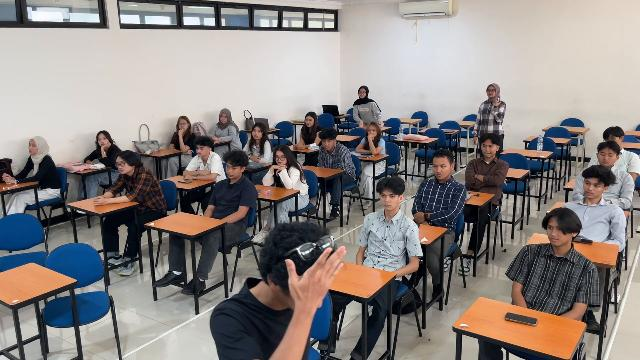fokus: (547, 221, 570, 246), (583, 177, 604, 198), (380, 189, 397, 210), (432, 159, 448, 179), (481, 141, 497, 158), (599, 150, 616, 166), (225, 163, 239, 178), (116, 157, 129, 173), (605, 134, 623, 145), (98, 133, 109, 148), (276, 151, 287, 166), (196, 144, 208, 157), (28, 140, 38, 155), (367, 125, 377, 139), (321, 139, 333, 150), (179, 118, 188, 131), (253, 126, 262, 139), (305, 115, 313, 127), (221, 114, 228, 124)
